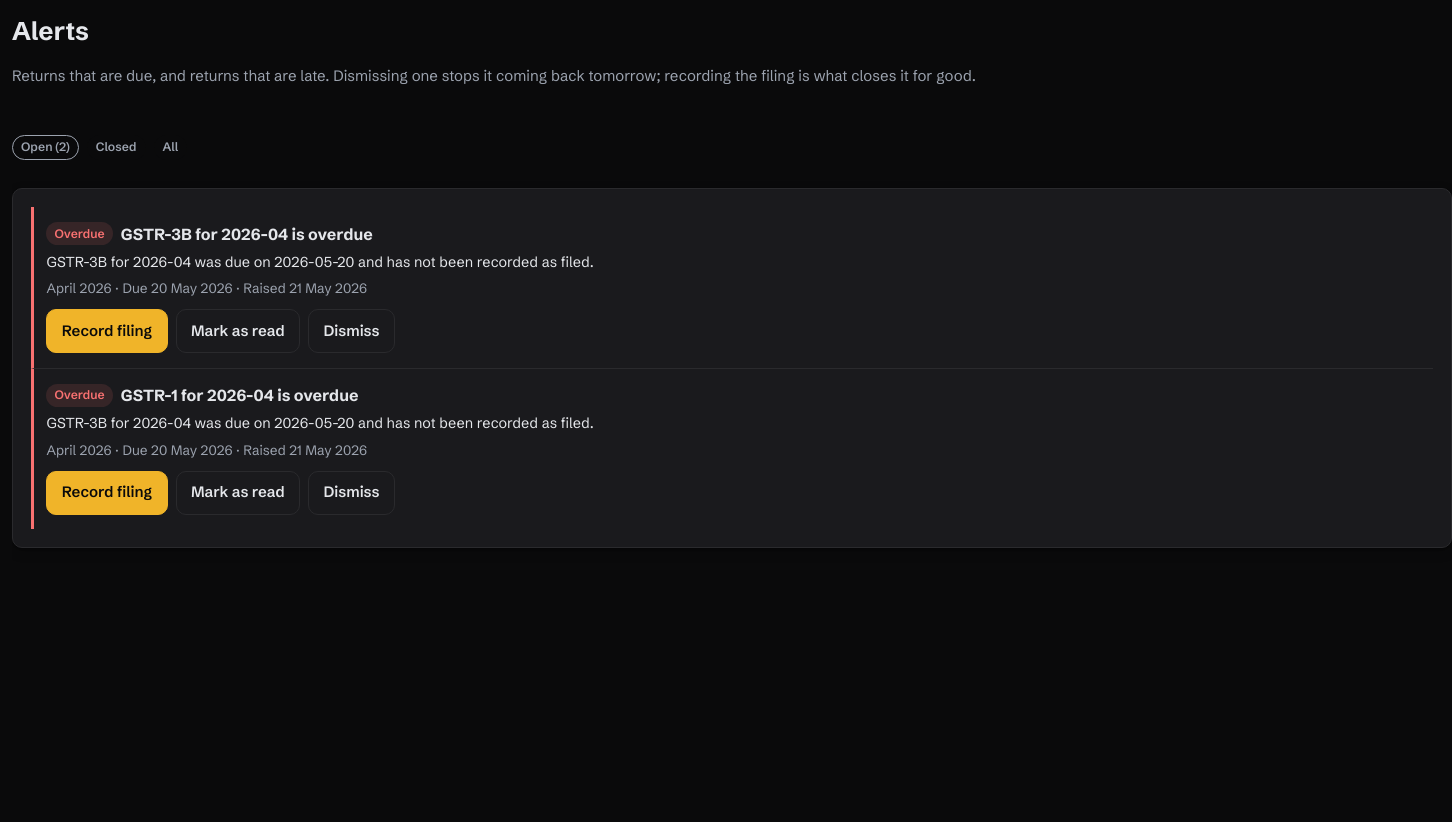
Test: AlertsPage › names which alert failed when several are on screen
Click the button "Dismiss" below "GSTR-1 for 2026-04 is overdue" at (352, 493), box [308, 471, 395, 515]
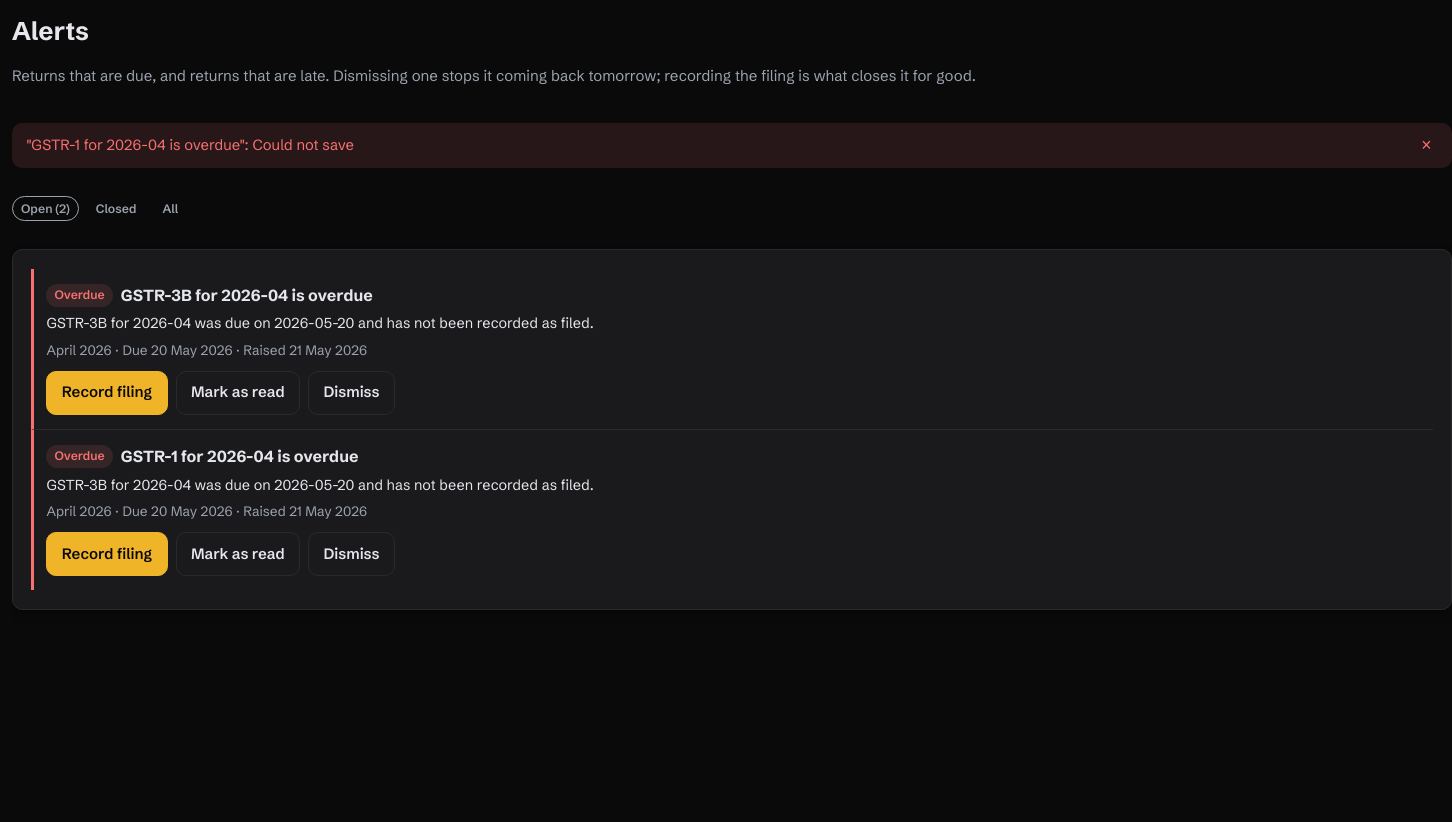
Expected: the message does not show "GSTR-3B for 2026-04 is overdue", [12, 123, 1451, 168]
Expected: the message shows "GSTR-1 for 2026-04 is overdue", [26, 136, 354, 154]
